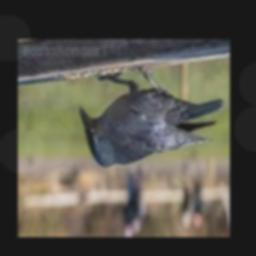Crow: (79, 67, 224, 168)
